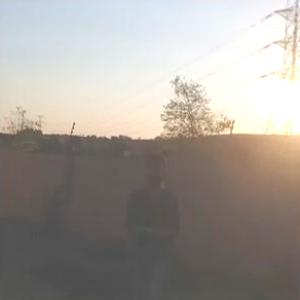follow: (115, 146, 185, 299)
